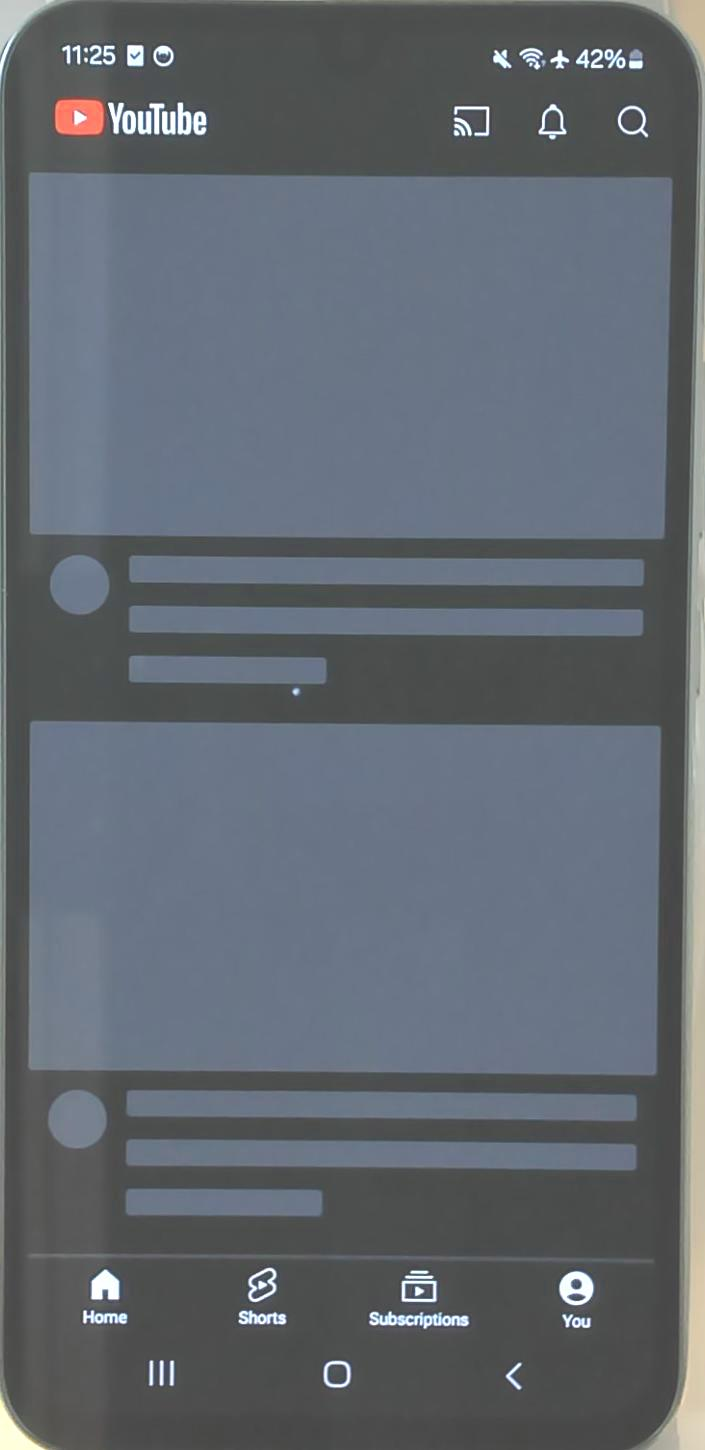CommunBotton: (362, 1238, 478, 1342), (52, 1250, 140, 1340), (220, 1256, 300, 1336), (548, 1256, 600, 1336), (136, 1350, 202, 1408), (490, 1360, 550, 1416), (444, 90, 498, 144), (536, 92, 584, 148), (310, 1360, 370, 1402), (616, 100, 656, 144)
